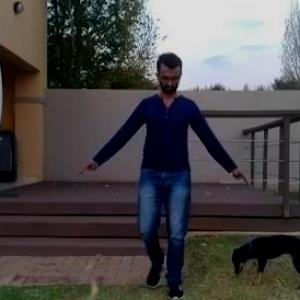land: (90, 71, 228, 290)
